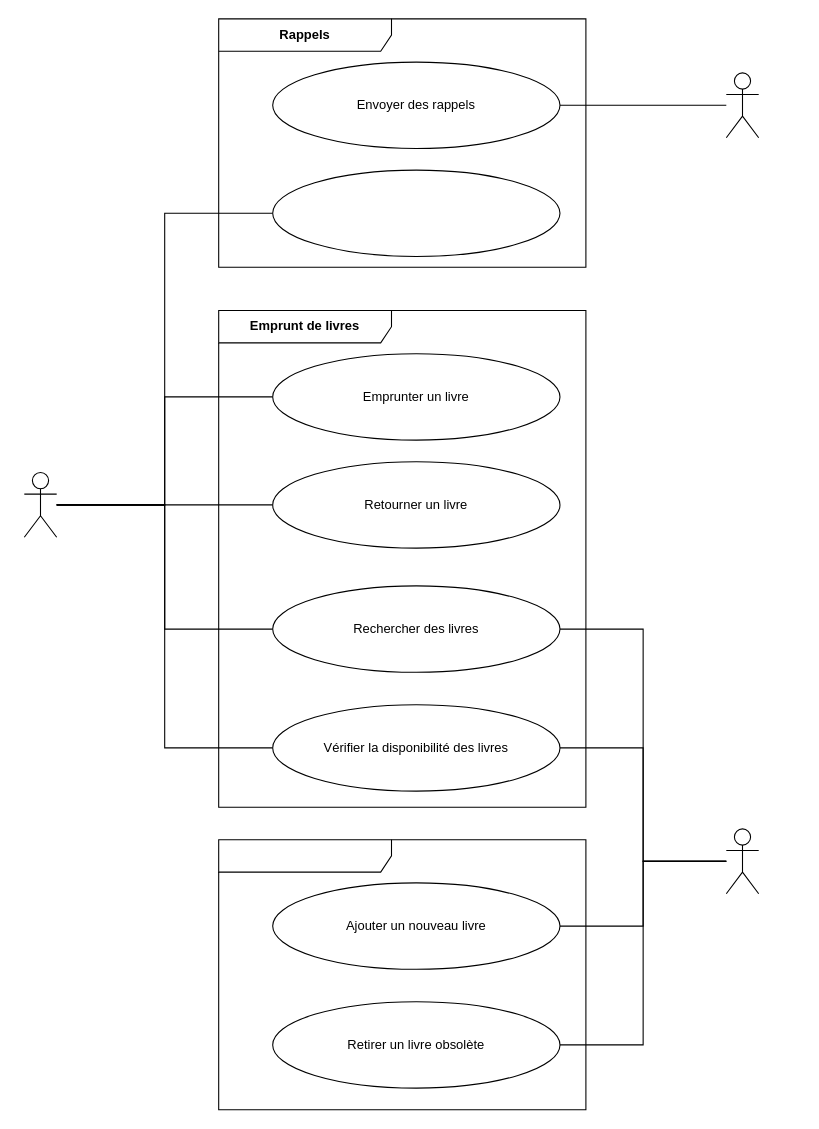
Image size: 819x1129. Some labels were removed from this diagram. Each missing label, with the centre of its shape:
"Bibliothécaire" goes at point 742,861.
"Gestion des livres" goes at point 402,974.
"Lecteur" goes at point 40,504.
"Recevoir des rappels" goes at point 416,212.
"Système de Gestion" goes at point 742,105.
